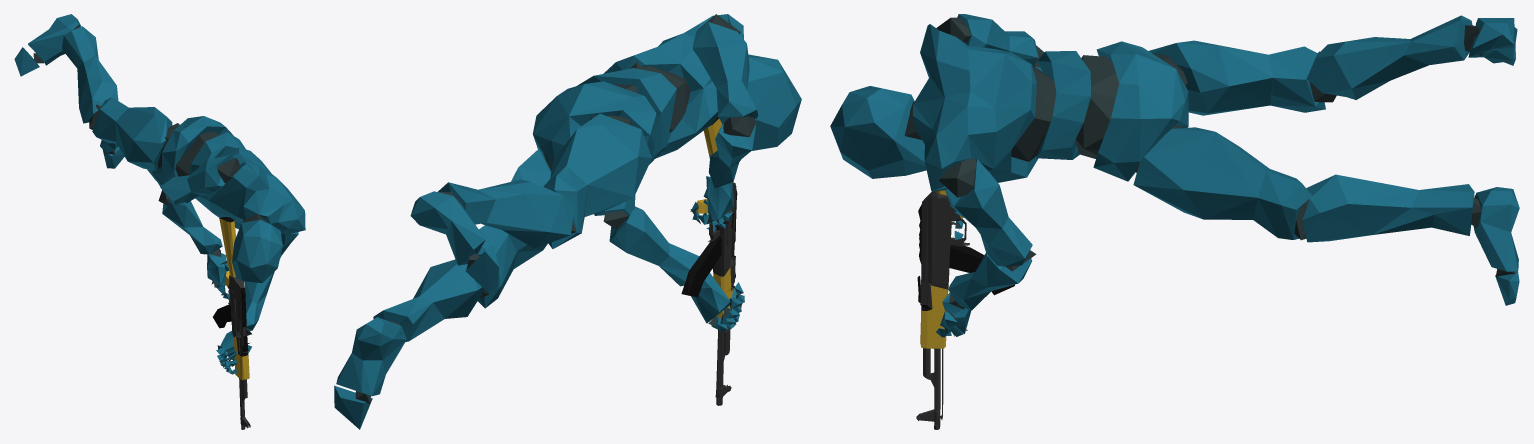
Rendered from EnemyDying_000002.obj.
3 views of the same model, side by side, from view 1: azimuth 30°, elevation 25°; view 2: azimuth 150°, elevation 25°; view 3: azimuth 270°, elevation 25° (orthographic). The views are drawn at different scales.
Parts seen in each view (by area): view 1: Alpha_Surface, AK-47_Cube, Alpha_Joints; view 2: Alpha_Surface, AK-47_Cube, Alpha_Joints; view 3: Alpha_Surface, Alpha_Joints, AK-47_Cube.
Boxes of the visible parts, <box> form: Alpha_Surface: <box>14,14,305,373</box>; AK-47_Cube: <box>213,217,250,429</box>; Alpha_Joints: <box>33,24,266,374</box>; Alpha_Surface: <box>334,14,801,429</box>; AK-47_Cube: <box>681,117,737,405</box>; Alpha_Joints: <box>355,14,756,403</box>; Alpha_Surface: <box>830,14,1519,337</box>; Alpha_Joints: <box>904,17,1515,336</box>; AK-47_Cube: <box>916,190,1014,429</box>.
Bounding box in the file's own units: 108 × 222 × 332.
